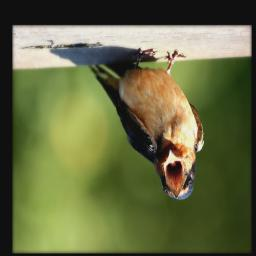Swallow: (88, 48, 206, 201)
